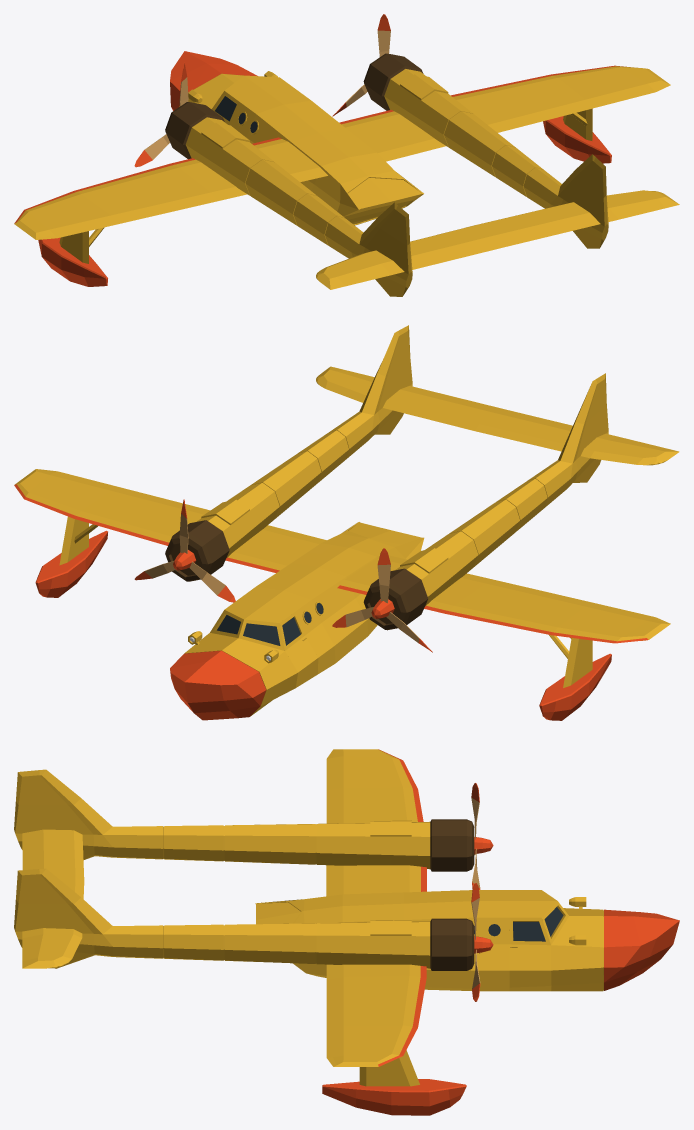
The model's file is sea_duck.glb.
3 renders of one model, top to bottom at view 1: azimuth 30°, elevation 25°; view 2: azimuth 150°, elevation 25°; view 3: azimuth 270°, elevation 25°, orthographic. The views are drawn at different scales.
Visible parts, largest first — view 1: Cylinder, Plane.001, Plane, Plane.002, Cube, Cylinder.001, Plane.003, Plane.004; view 2: Cylinder, Plane, Plane.001, Plane.002, Cube, Cylinder.001, Plane.003, Plane.004; view 3: Cylinder, Plane, Plane.001, Plane.002, Cube, Cylinder.001, Plane.004, Plane.003.
Boxes of the visible parts, bbox=[...] form: Cylinder: bbox=[165, 53, 608, 296]; Plane.001: bbox=[14, 65, 670, 239]; Plane: bbox=[170, 51, 423, 225]; Plane.002: bbox=[316, 190, 679, 289]; Cube: bbox=[38, 108, 611, 286]; Cylinder.001: bbox=[192, 69, 472, 167]; Plane.003: bbox=[134, 14, 390, 167]; Plane.004: bbox=[211, 91, 239, 125]; Cylinder: bbox=[165, 325, 608, 630]; Plane: bbox=[170, 522, 424, 720]; Plane.001: bbox=[14, 469, 670, 643]; Plane.002: bbox=[316, 366, 679, 465]; Cube: bbox=[35, 516, 611, 720]; Cylinder.001: bbox=[196, 483, 472, 579]; Plane.003: bbox=[134, 499, 432, 652]; Plane.004: bbox=[279, 612, 317, 672]; Cylinder: bbox=[14, 769, 493, 970]; Plane: bbox=[255, 890, 679, 991]; Plane.001: bbox=[326, 749, 426, 1066]; Plane.002: bbox=[22, 829, 84, 968]; Cube: bbox=[322, 1050, 466, 1115]; Cylinder.001: bbox=[316, 820, 430, 936]; Plane.004: bbox=[509, 917, 550, 970]; Plane.003: bbox=[471, 783, 480, 1001].
Size of the model in its own units: 35.82 by 8.94 by 31.72.
